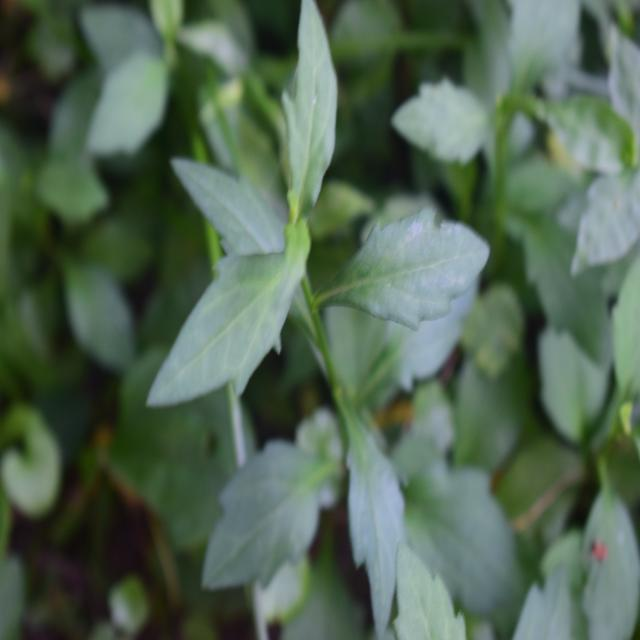Indian aster: (144, 46, 451, 578)
